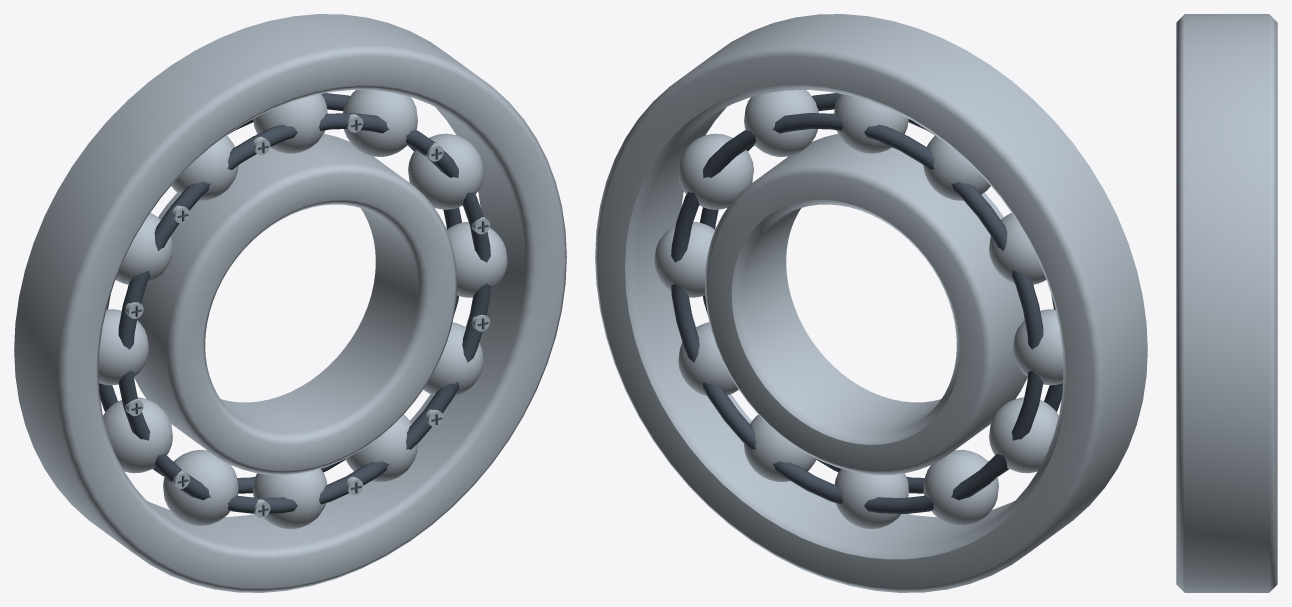
The model's file is deep-groove-bearing.glb.
3 views of the same model, side by side, from view 1: azimuth 30°, elevation 25°; view 2: azimuth 150°, elevation 25°; view 3: azimuth 270°, elevation 25° (orthographic).
Parts seen in each view (by area): view 1: outer-race, inner-race-through-bore, ball-cage (×2), rolling-ball-8, rolling-ball-1, rolling-ball-2, rolling-ball-7, rolling-ball-9, rolling-ball-0, rolling-ball-3, rolling-ball-6, rolling-ball-10 (+3 smaller); view 2: outer-race, inner-race-through-bore, ball-cage (×2), rolling-ball-8, rolling-ball-1, rolling-ball-2, rolling-ball-7, rolling-ball-9, rolling-ball-0, rolling-ball-3, rolling-ball-6, rolling-ball-10 (+3 smaller); view 3: outer-race.
Boxes of the visible parts, x1,y1,x2,y2 form: outer-race: [14, 14, 566, 592]; inner-race-through-bore: [128, 133, 456, 475]; ball-cage (×2): [99, 93, 490, 513]; rolling-ball-8: [163, 450, 238, 525]; rolling-ball-1: [408, 133, 483, 209]; rolling-ball-2: [343, 90, 417, 156]; rolling-ball-7: [103, 397, 172, 473]; rolling-ball-9: [253, 468, 327, 528]; rolling-ball-0: [447, 222, 507, 297]; rolling-ball-3: [253, 94, 327, 153]; rolling-ball-6: [98, 309, 148, 385]; rolling-ball-10: [345, 414, 417, 481]; outer-race: [595, 14, 1147, 592]; inner-race-through-bore: [705, 133, 1033, 475]; ball-cage (×2): [671, 93, 1062, 513]; rolling-ball-8: [923, 450, 998, 525]; rolling-ball-1: [678, 133, 753, 209]; rolling-ball-2: [744, 90, 818, 156]; rolling-ball-7: [989, 397, 1058, 473]; rolling-ball-9: [834, 468, 908, 528]; rolling-ball-0: [654, 222, 714, 297]; rolling-ball-3: [834, 94, 908, 153]; rolling-ball-6: [1013, 309, 1063, 385]; rolling-ball-10: [744, 414, 816, 481]; outer-race: [1176, 14, 1277, 592].
Bounding box in the file's own units: 1.72 × 1.72 × 0.3.
